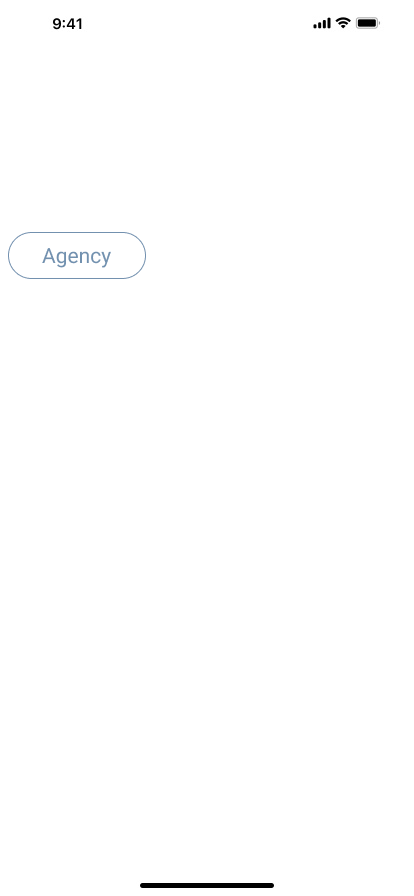Buttons: (8, 232, 154, 279)
Home Indicator: (0, 862, 414, 896)
Status Bar: (0, 0, 414, 44)
